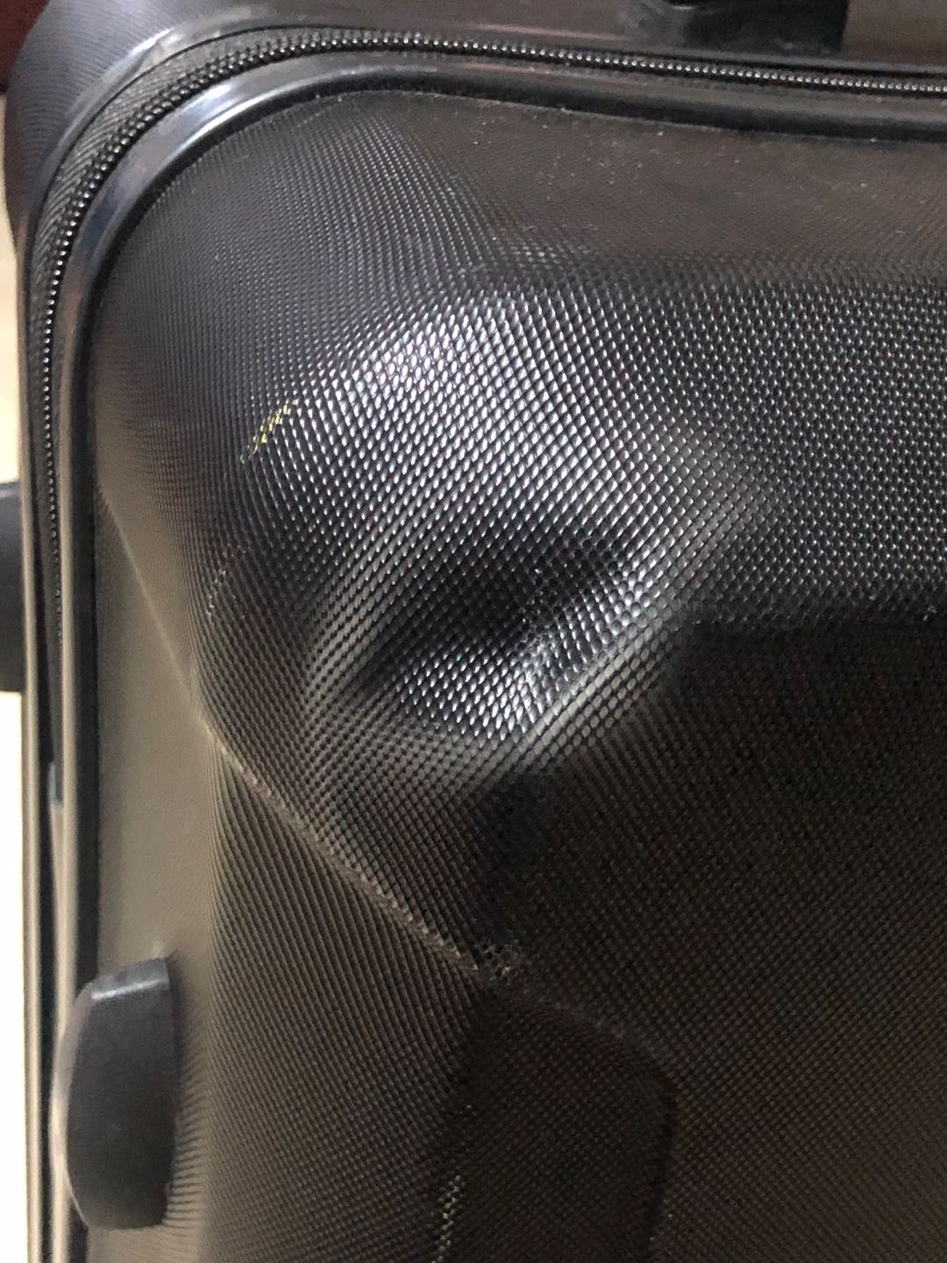rupture: (318, 489, 662, 756)
